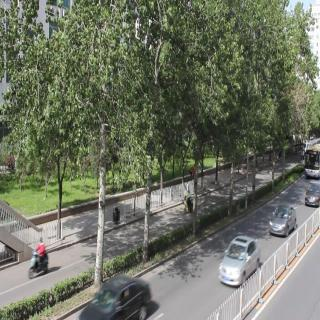Car: (78, 274, 154, 320), (219, 231, 263, 283), (269, 199, 295, 238), (305, 177, 320, 209)
